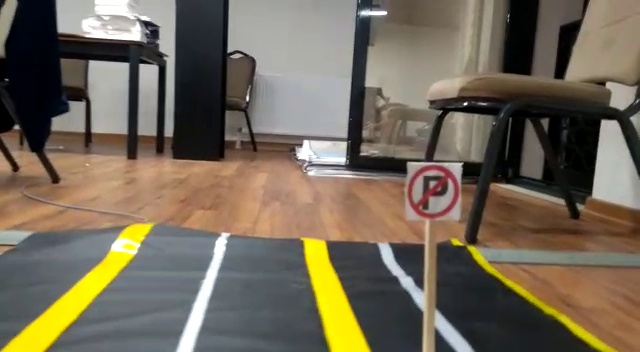park_yapilmaz: (408, 162, 459, 218)
